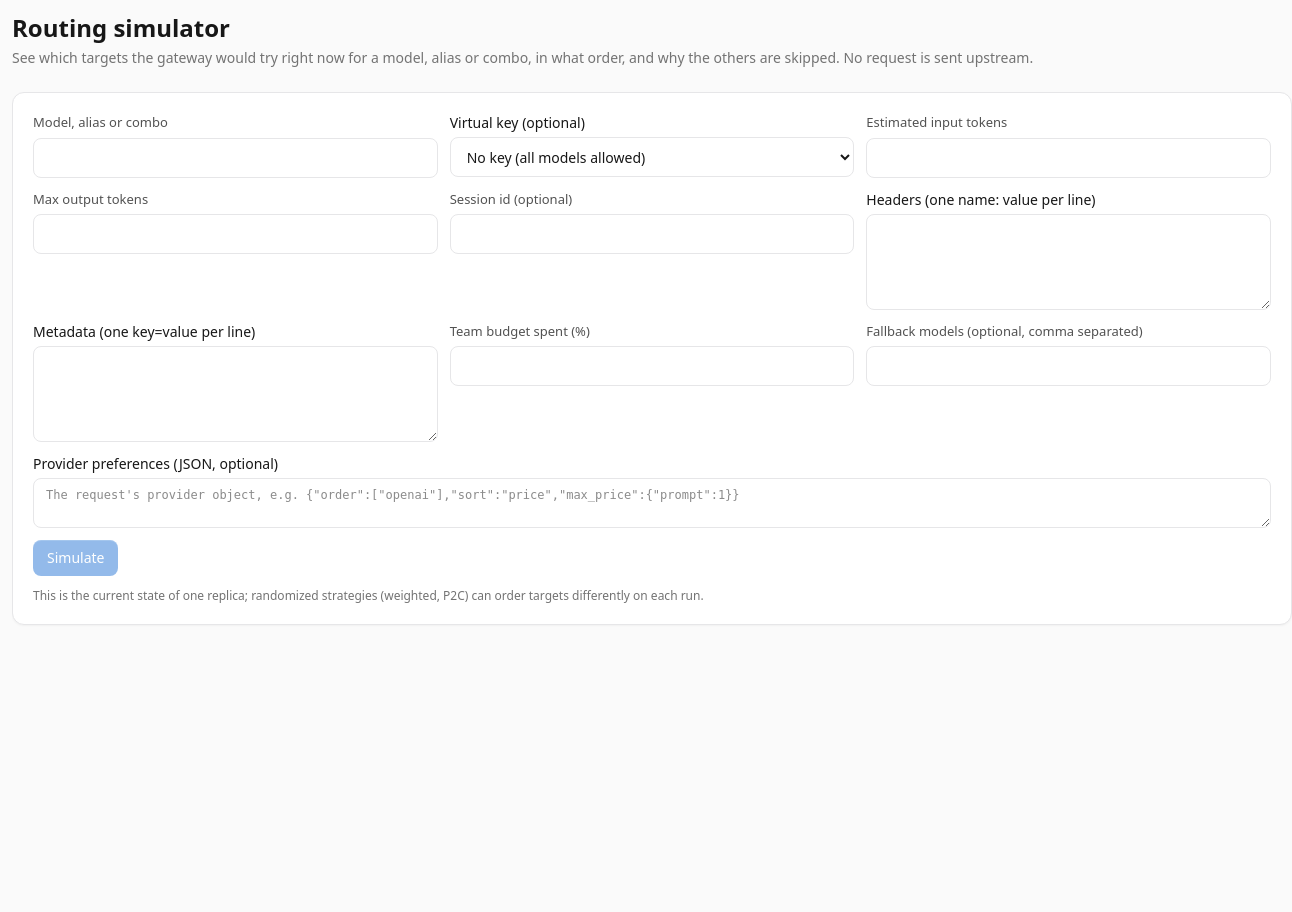
Test: routing simulator provider preferences (card 32.1) › refuses provider preferences that are not a JSON object
The width and height of the screenshot is (1292, 912).
In the field labelled "Model, alias or combo": coordinates (235, 158) [33,138,438,178], type "chat"
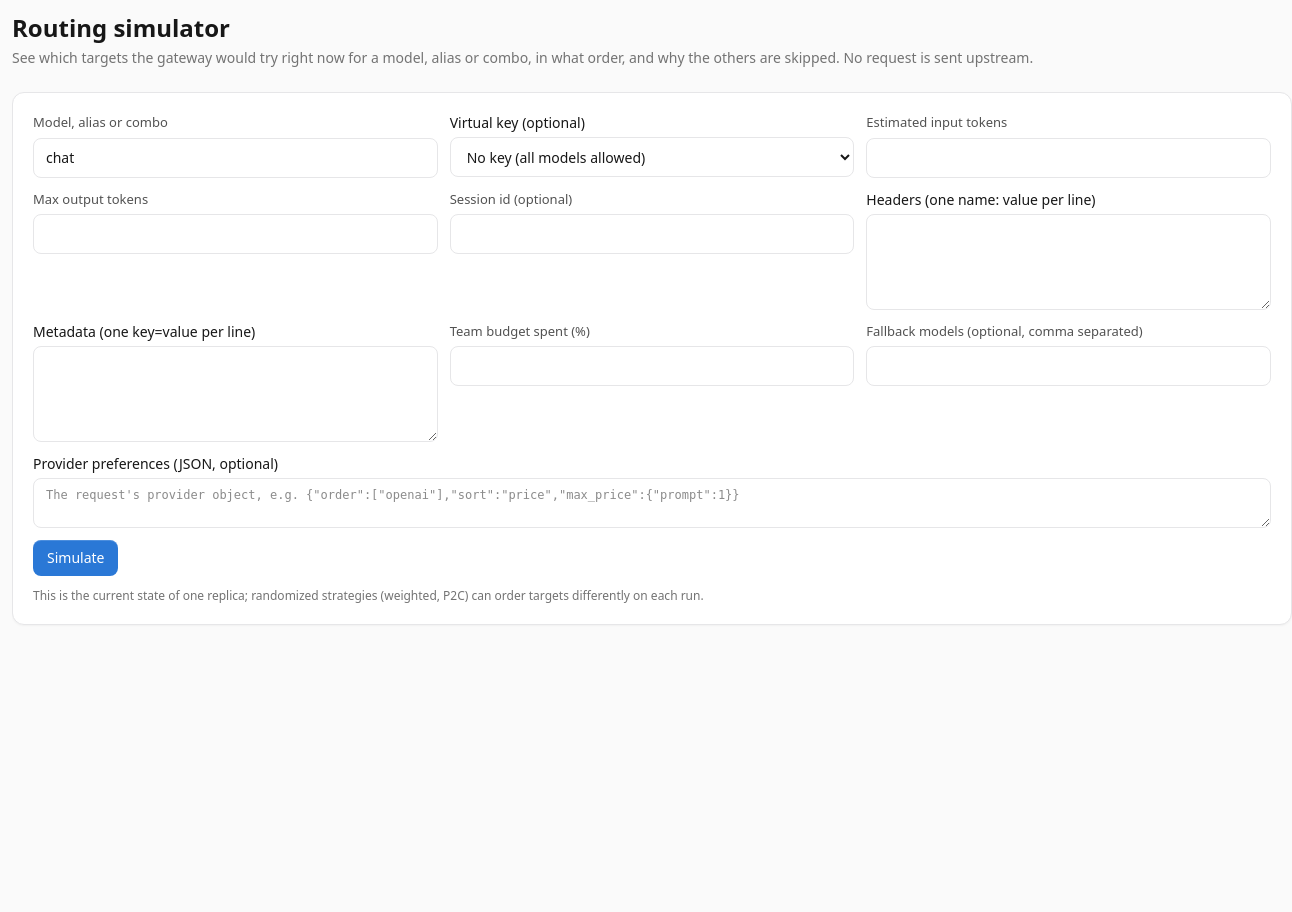
Replace the text in the text box labelled "Provider preferences (JSON, optional)" with "[1": coordinates (652, 503) [33,478,1271,528]
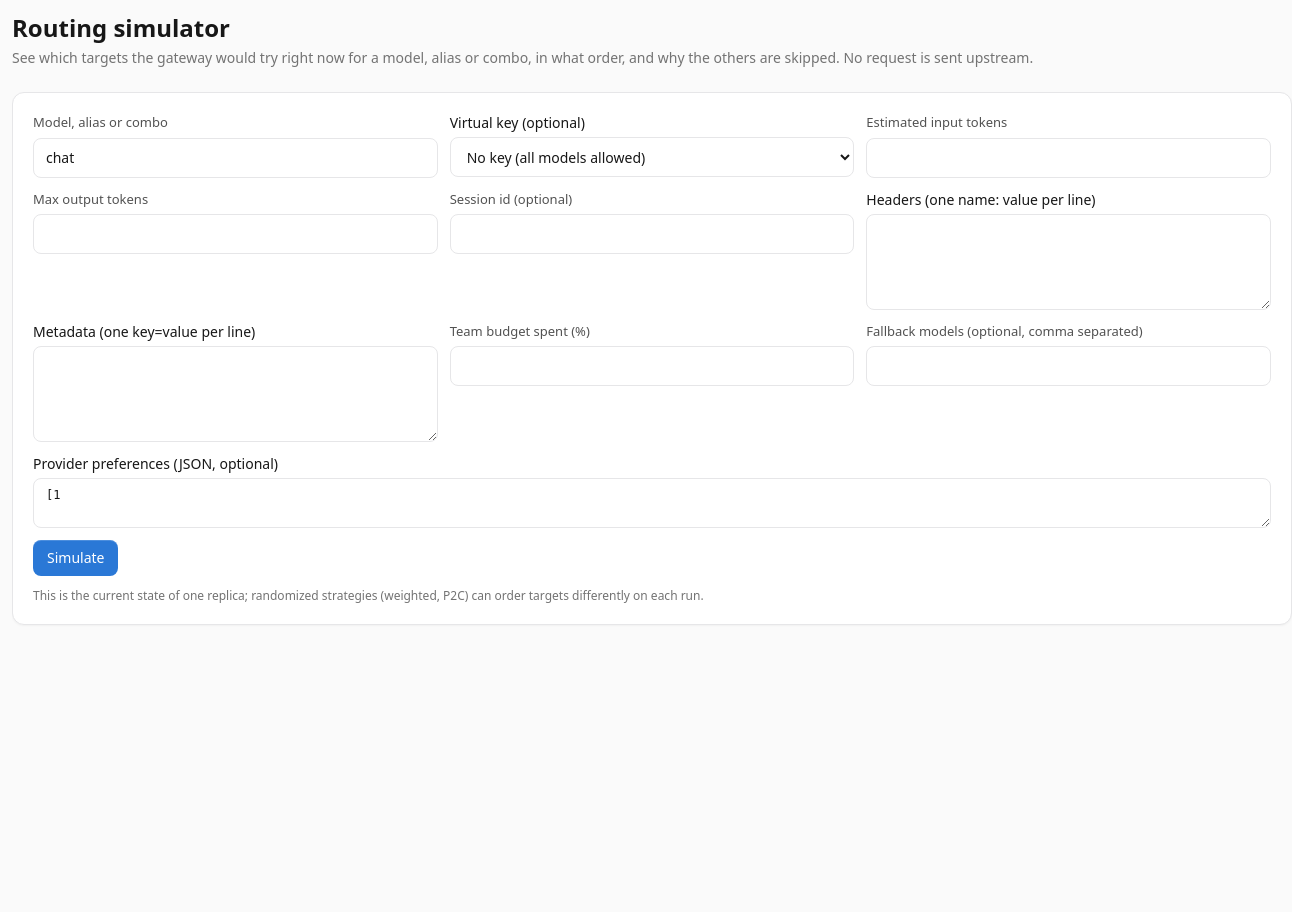
Click the button "Simulate": coordinates (76, 558) [33,540,118,576]
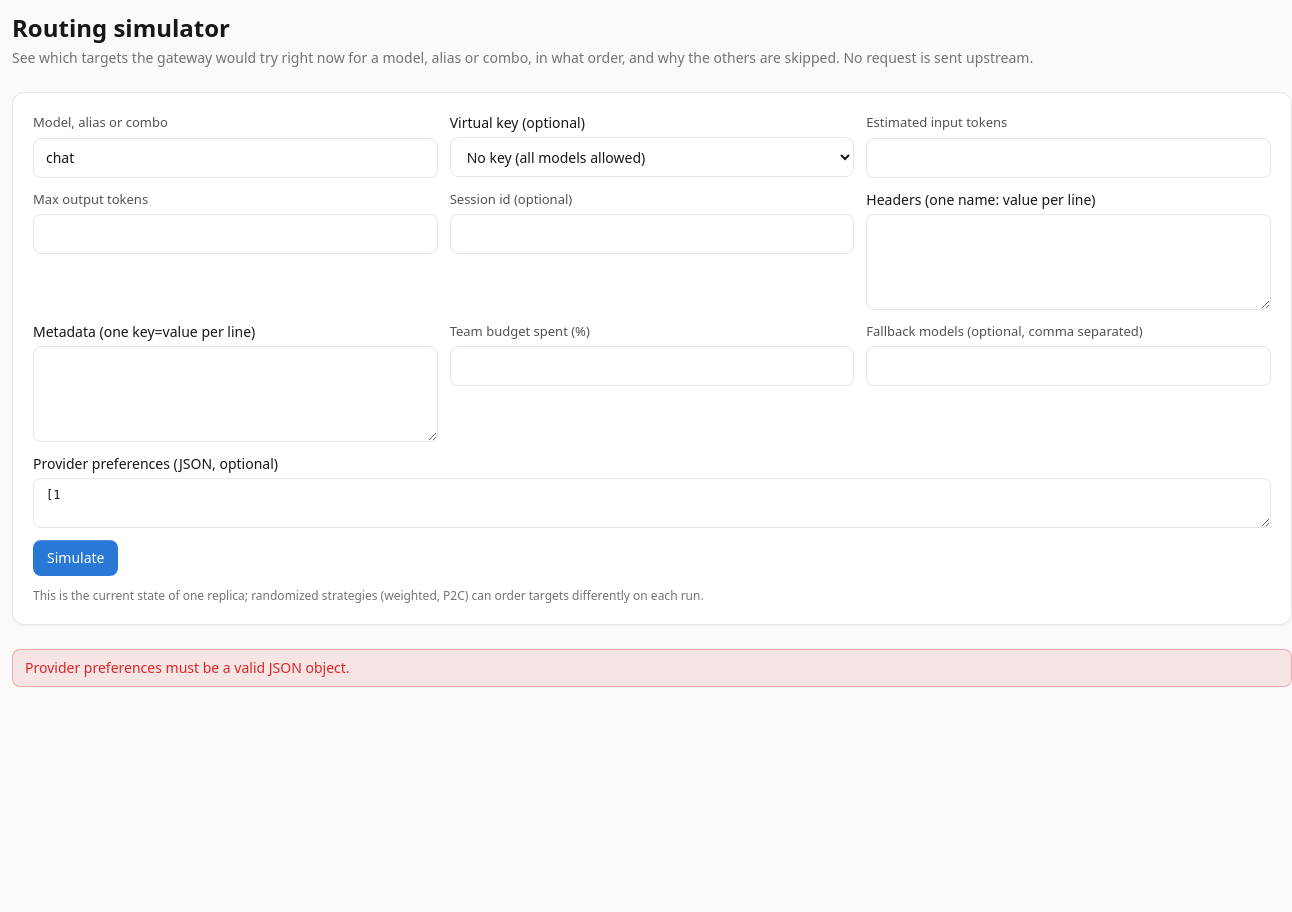
Check: the text "Provider preferences must be a valid JSON object." is shown, box [12,649,1291,687]
